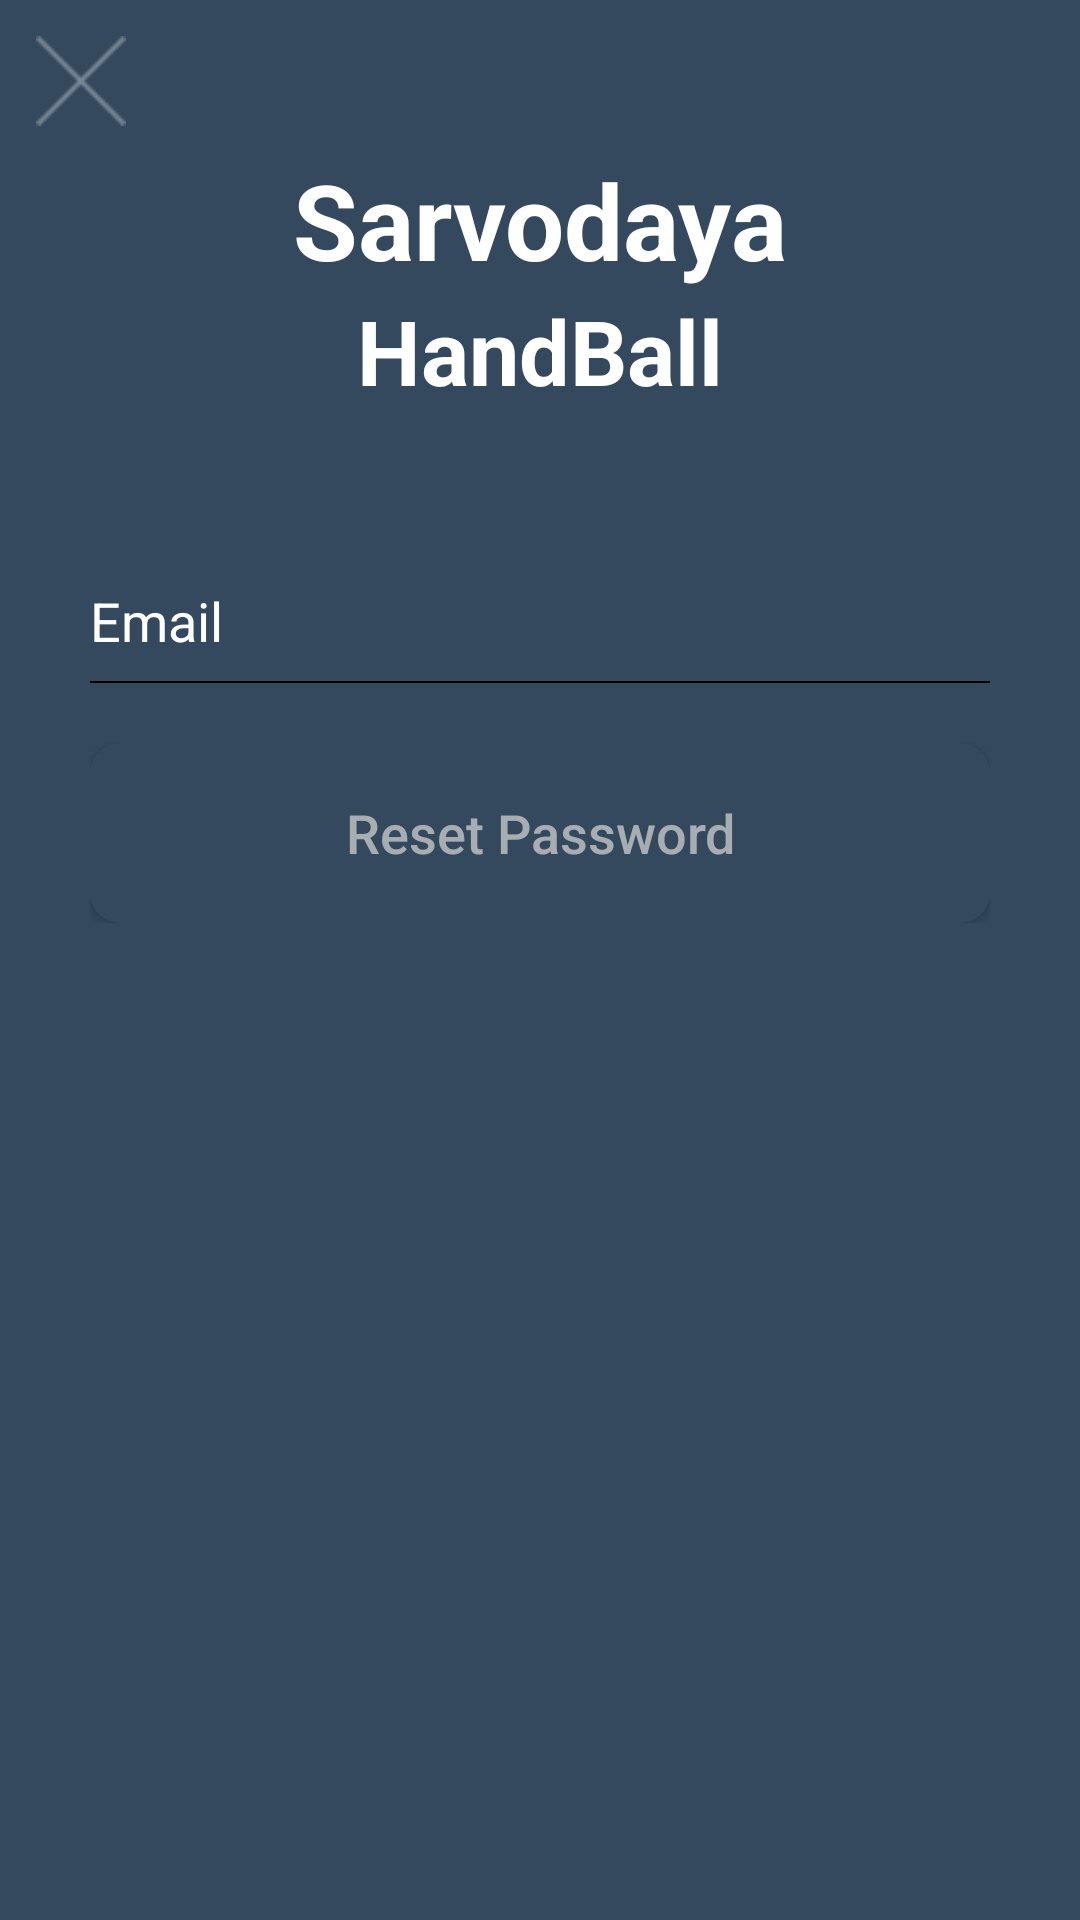

Icons on this 1080px×1920px Android screen, each with the point to tap as (x=x, y=y):
closebtnone: (x=81, y=81)
